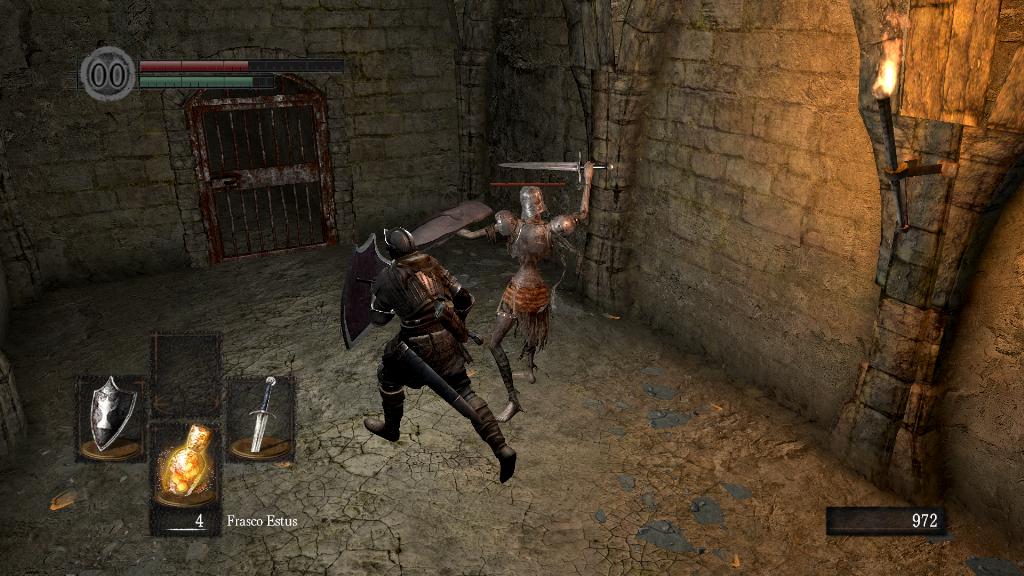health: (138, 58, 343, 71)
humanity: (80, 45, 136, 102)
player: (339, 226, 519, 485)
souls: (825, 506, 945, 536)
stamina: (138, 74, 274, 88)
undeadSoldier: (458, 158, 615, 422)
